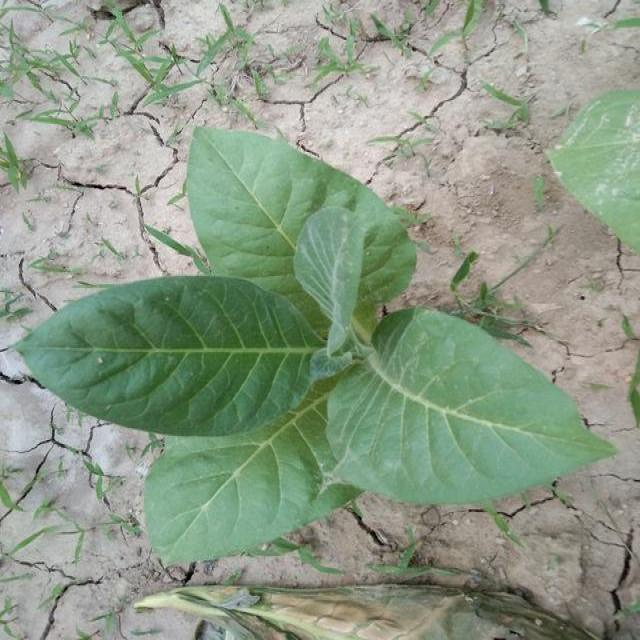crop: (18, 114, 616, 549)
